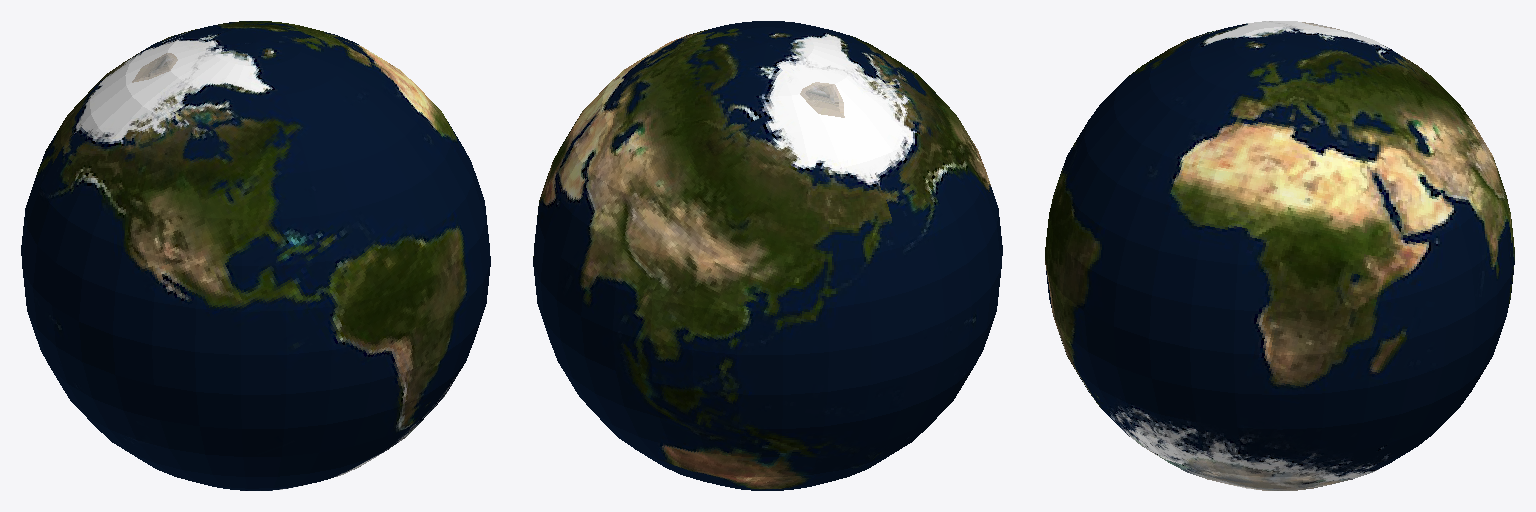
3 renders of one model, left to right at view 1: azimuth 30°, elevation 25°; view 2: azimuth 150°, elevation 25°; view 3: azimuth 270°, elevation 25°, orthographic.
Visible parts, largest first — view 1: earth_Sphere.001; view 2: earth_Sphere.001; view 3: earth_Sphere.001.
Part boxes in pixels (bbox=[...]): earth_Sphere.001: bbox=[21, 21, 490, 490]; earth_Sphere.001: bbox=[533, 21, 1002, 490]; earth_Sphere.001: bbox=[1045, 21, 1514, 490].
Size of the model in its own units: 2 by 2 by 2.
Materials: 1 (1 with a texture image).